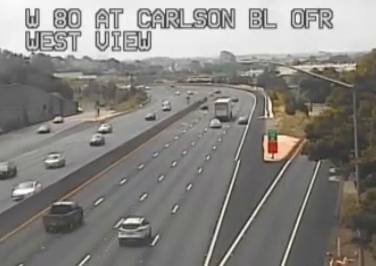car: (43, 202, 83, 229), (118, 217, 150, 241)
